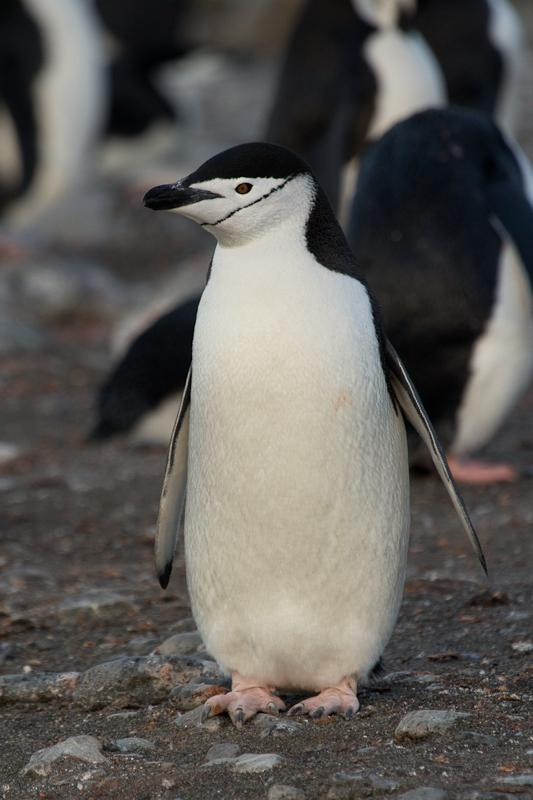chinstrap: (122, 137, 504, 735)
